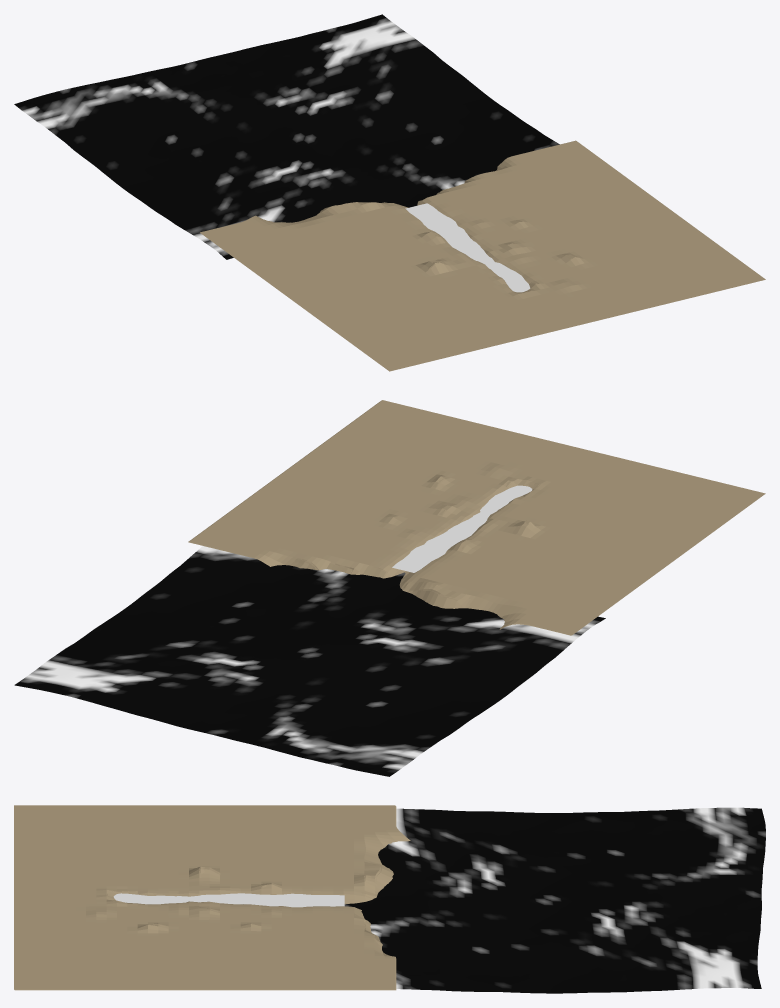
File: GroundWater.fbx
The picture shows the model from 3 angles, top to bottom: view 1: azimuth 30°, elevation 25°; view 2: azimuth 150°, elevation 25°; view 3: azimuth 270°, elevation 25°; orthographic projection.
Visible parts, largest first — view 1: Plane.018, Plane, Plane.019; view 2: Plane.018, Plane, Plane.019; view 3: Plane.018, Plane, Plane.019.
Boxes of the visible parts, left/top/right/bottom form: Plane.018: left=14, top=14, right=559, bottom=259; Plane: left=200, top=140, right=765, bottom=371; Plane.019: left=405, top=203, right=530, bottom=292; Plane.018: left=14, top=546, right=605, bottom=776; Plane: left=188, top=400, right=765, bottom=635; Plane.019: left=392, top=485, right=532, bottom=572; Plane.018: left=344, top=807, right=765, bottom=993; Plane: left=14, top=805, right=410, bottom=990; Plane.019: left=113, top=893, right=344, bottom=907.
Bounding box in the file's own units: 116999 × 16749 × 199222.
